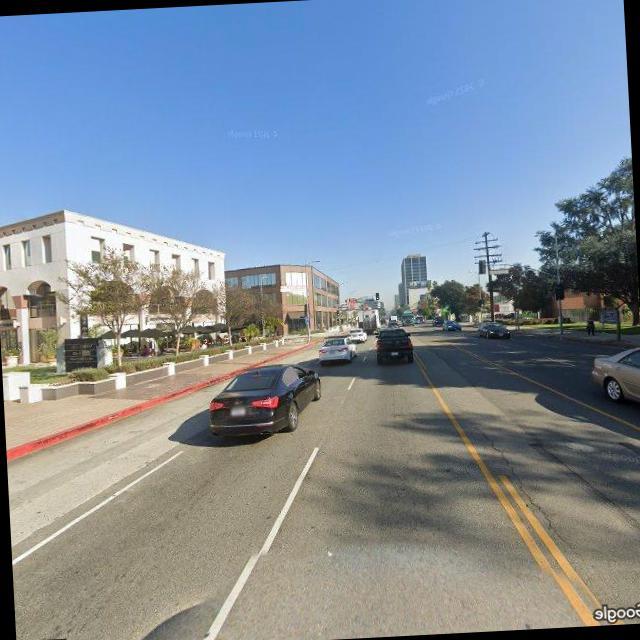crack: (474, 417, 570, 547)
